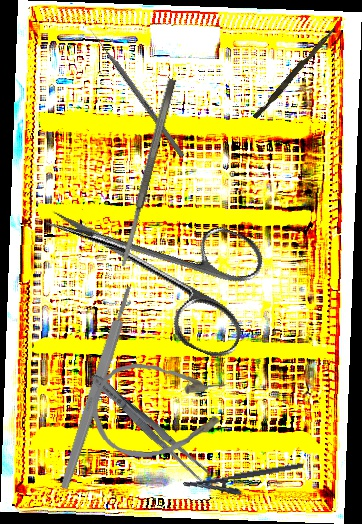Cannula: (90, 358, 231, 461)
Dressing Forceps: (86, 368, 212, 485)
Iris Scissors: (23, 163, 278, 364)
Needle Holder: (183, 462, 306, 504)
Pusher: (88, 28, 186, 158), (252, 22, 338, 122)
Scalpel Handle: (58, 284, 136, 491)
Spatula Surgical: (117, 77, 178, 268)
